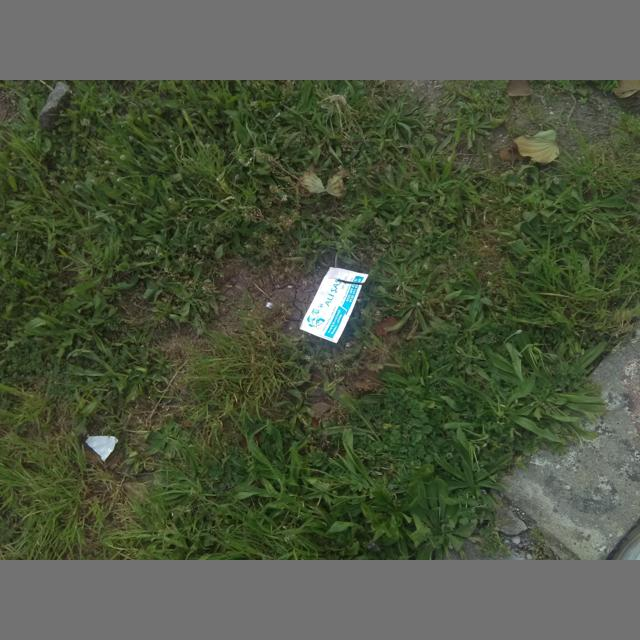litter: (300, 267, 368, 343), (85, 436, 118, 461)
